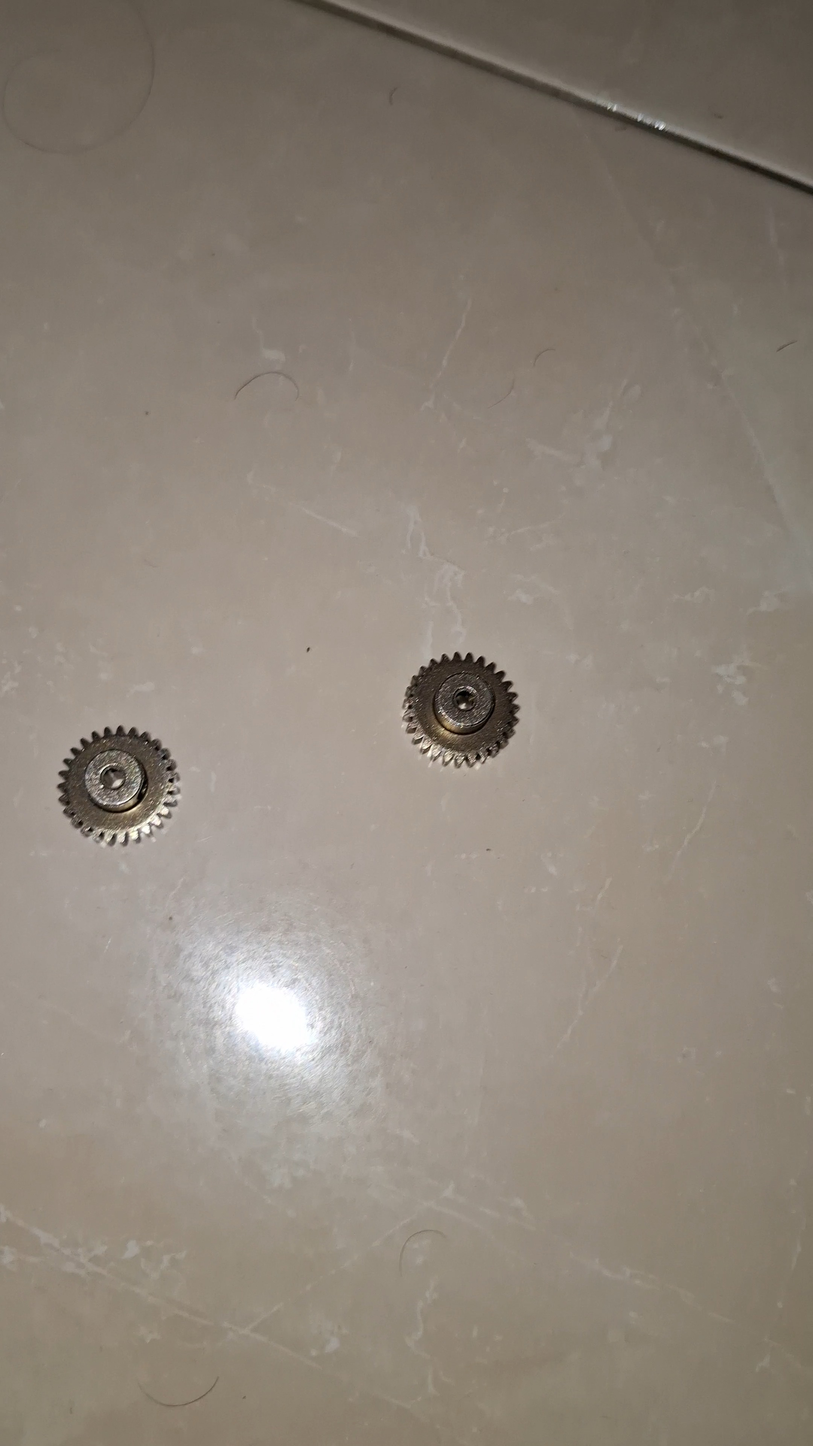spur gear: (60, 726, 179, 845), (403, 653, 518, 766)
